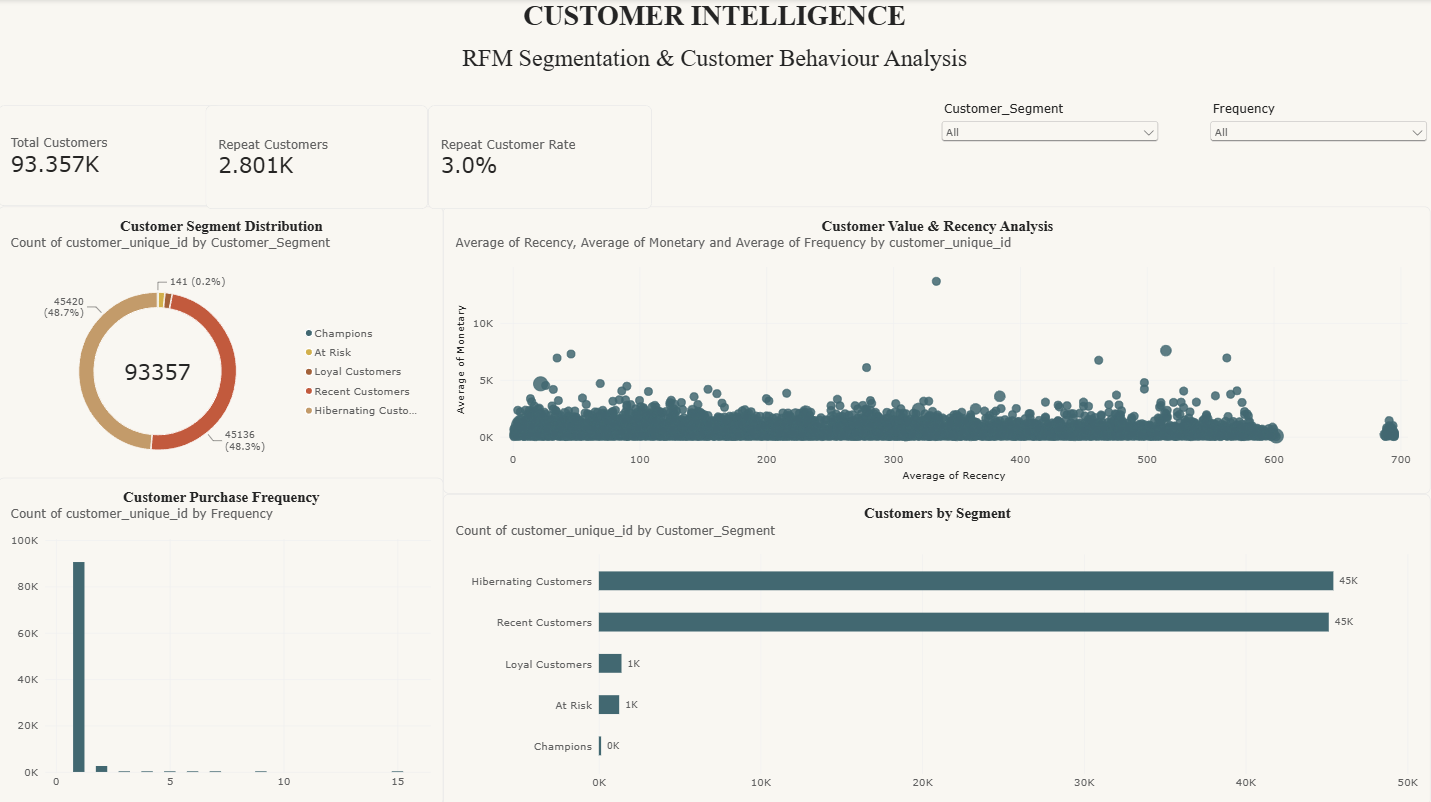

Layout of this report page (visuals, bound fields, positions):
{"tool":"powerbi","page":{"name":"Customer Intelligence -","canvas":[1920,1080],"ordinal":1},"visuals":[{"type":"textbox","box":[0,0,1920.4,170.8],"z":0},{"type":"donutChart","title":"Customer Segment Distribution","fields":{"Category":["customer_rfm.Customer_Segment"],"Y":["CountNonNull(customer_rfm.customer_unique_id)"]},"box":[0,277.9,596.9,384.9],"z":1},{"type":"clusteredColumnChart","title":"Customer Purchase Frequency","fields":{"Category":["customer_rfm.Frequency"],"Y":["CountNonNull(customer_rfm.customer_unique_id)"]},"box":[0,642.2,596.9,438.4],"z":2},{"type":"scatterChart","title":"Customer Value & Recency Analysis","fields":{"Category":["customer_rfm.customer_unique_id"],"Size":["Avg(customer_rfm.Frequency)"],"X":["Avg(customer_rfm.Recency)"],"Y":["Avg(customer_rfm.Monetary)"]},"box":[596.9,277.9,1323.5,384.9],"z":3},{"type":"clusteredBarChart","title":"Customers by Segment","fields":{"Category":["customer_rfm.Customer_Segment"],"Y":["CountNonNull(customer_rfm.customer_unique_id)"]},"box":[596.9,662.8,1323.5,417.8],"z":4},{"type":"cardVisual","fields":{"Data":["public vw_monthly_revenue.Total Customers"]},"box":[0,142,300.5,135.8],"z":5},{"type":"cardVisual","fields":{"Data":["public vw_monthly_revenue.Repeat Customers"]},"box":[277.9,142,298.5,140],"z":6},{"type":"cardVisual","fields":{"Data":["customer_rfm.Repeat Customer Rate"]},"box":[576.3,142,300.5,140],"z":7},{"type":"slicer","fields":{"Values":["customer_rfm.Customer_Segment"]},"box":[1259.7,137.9,300.5,140],"z":8},{"type":"slicer","fields":{"Values":["customer_rfm.Frequency"]},"box":[1619.9,137.9,300.5,140],"z":9}]}

Visuals, with their boxes in screenshot pixels (x1, y1, x2, y2), scaled from the page's 1920x1080 canvas onto the 1431x802 screenshot:
textbox: detection(0, 0, 1430, 127)
"Customer Segment Distribution" donutChart: detection(0, 206, 445, 492)
"Customer Purchase Frequency" clusteredColumnChart: detection(0, 477, 445, 801)
"Customer Value & Recency Analysis" scatterChart: detection(445, 206, 1430, 492)
"Customers by Segment" clusteredBarChart: detection(445, 492, 1430, 801)
cardVisual - public vw_monthly_revenue.Total Customers: detection(0, 105, 224, 206)
cardVisual - public vw_monthly_revenue.Repeat Customers: detection(207, 105, 430, 209)
cardVisual - customer_rfm.Repeat Customer Rate: detection(430, 105, 653, 209)
slicer - customer_rfm.Customer_Segment: detection(939, 102, 1163, 206)
slicer - customer_rfm.Frequency: detection(1207, 102, 1430, 206)
